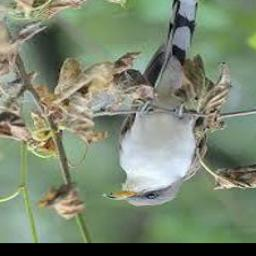Cuckoo: (102, 0, 206, 208)
